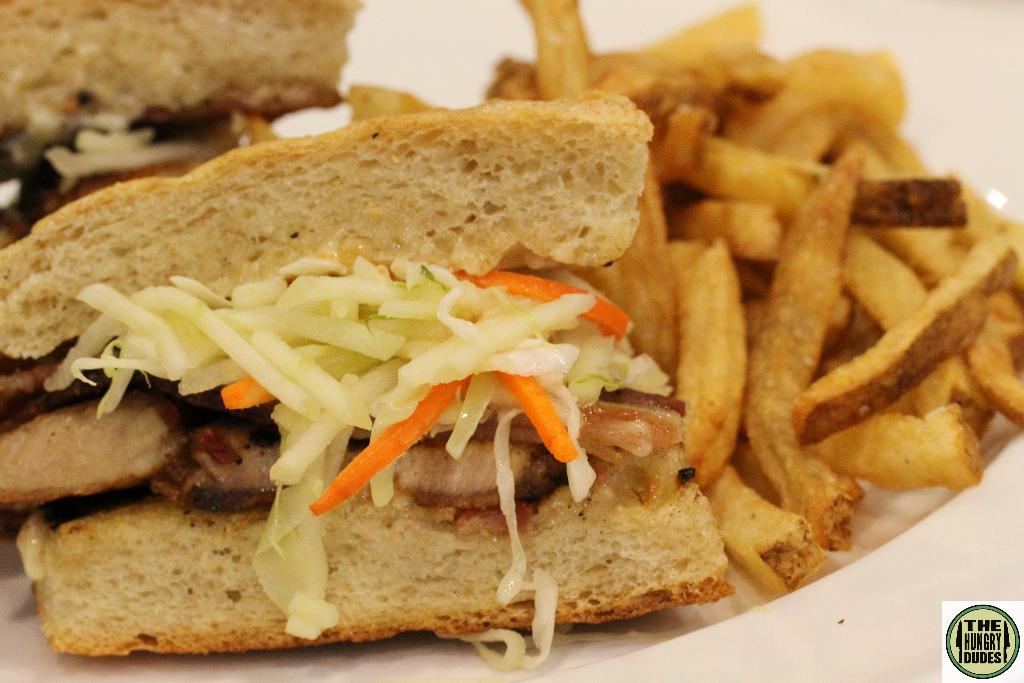French fries: (607, 86, 1024, 581)
